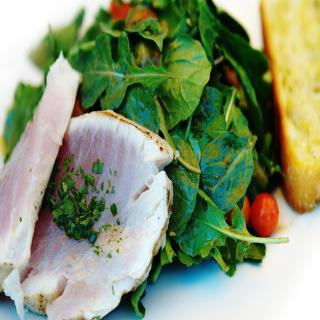tomato: (249, 189, 281, 234)
